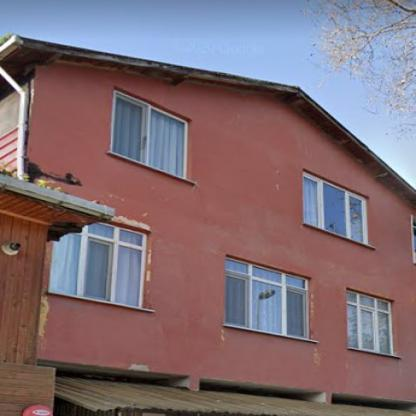window: (50, 223, 144, 307), (225, 257, 307, 339), (112, 92, 186, 178), (304, 175, 364, 243), (347, 292, 391, 354)
